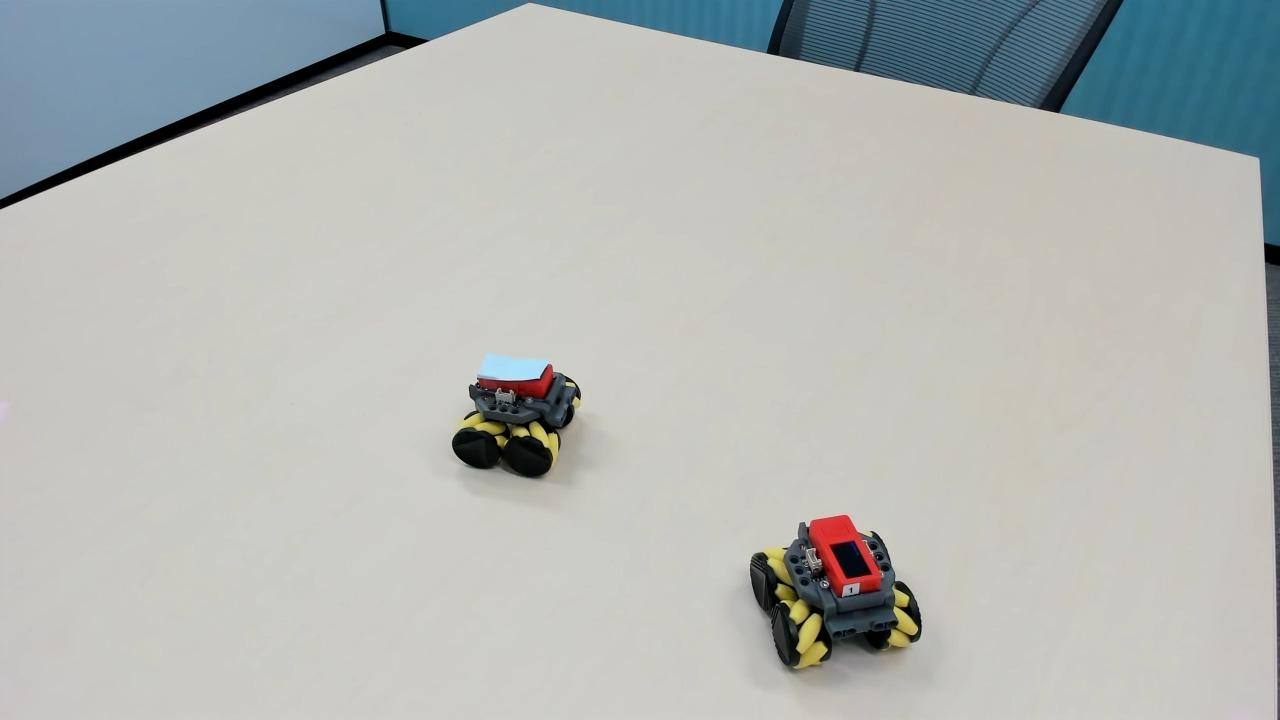B-Robot: (439, 344, 600, 494)
R-Robot: (741, 499, 943, 693)
